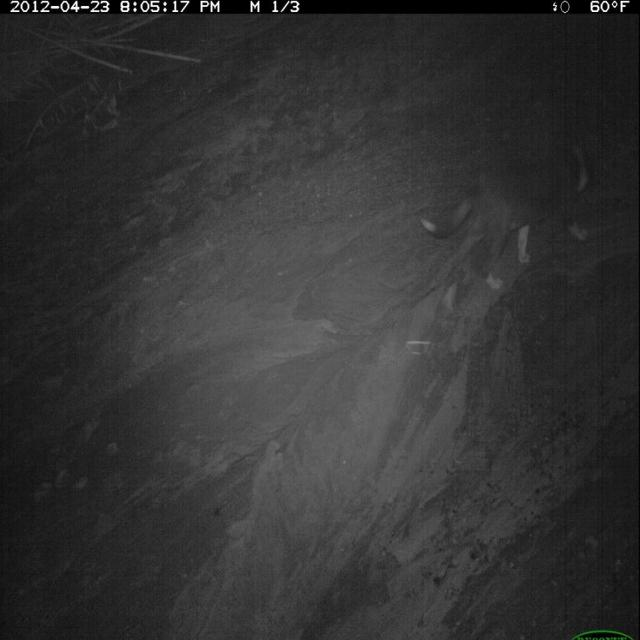dog: (418, 140, 607, 318)
